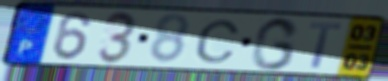3: (96, 9, 139, 66)
6: (49, 10, 94, 61)
8: (146, 12, 195, 67)
C: (193, 18, 243, 65)
G: (248, 16, 301, 72)
T: (307, 20, 345, 70)
